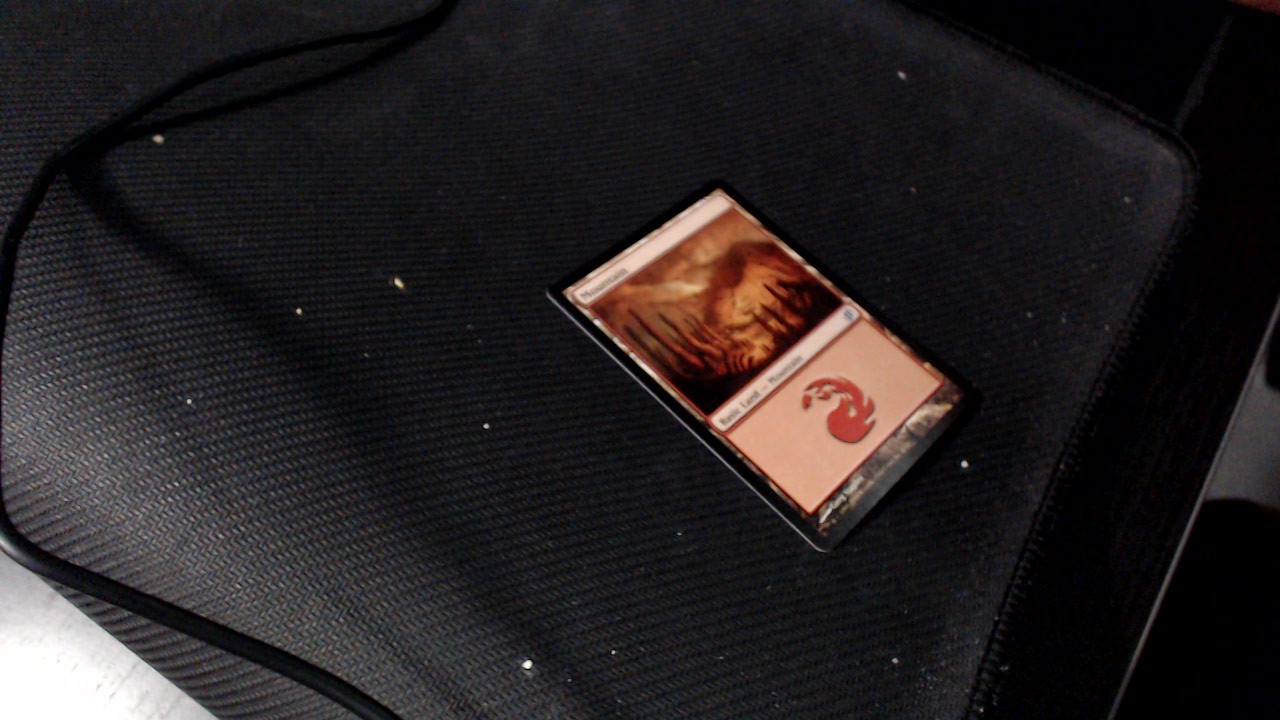MTG Card: (531, 175, 987, 564)
